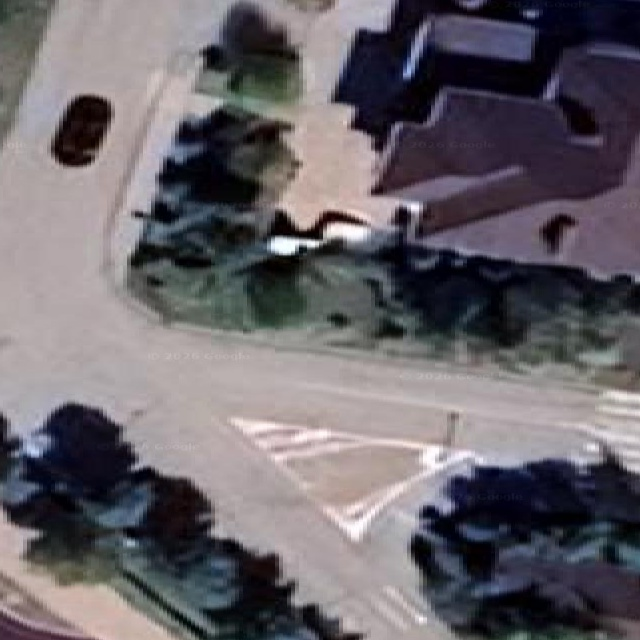car: (52, 96, 111, 166)
